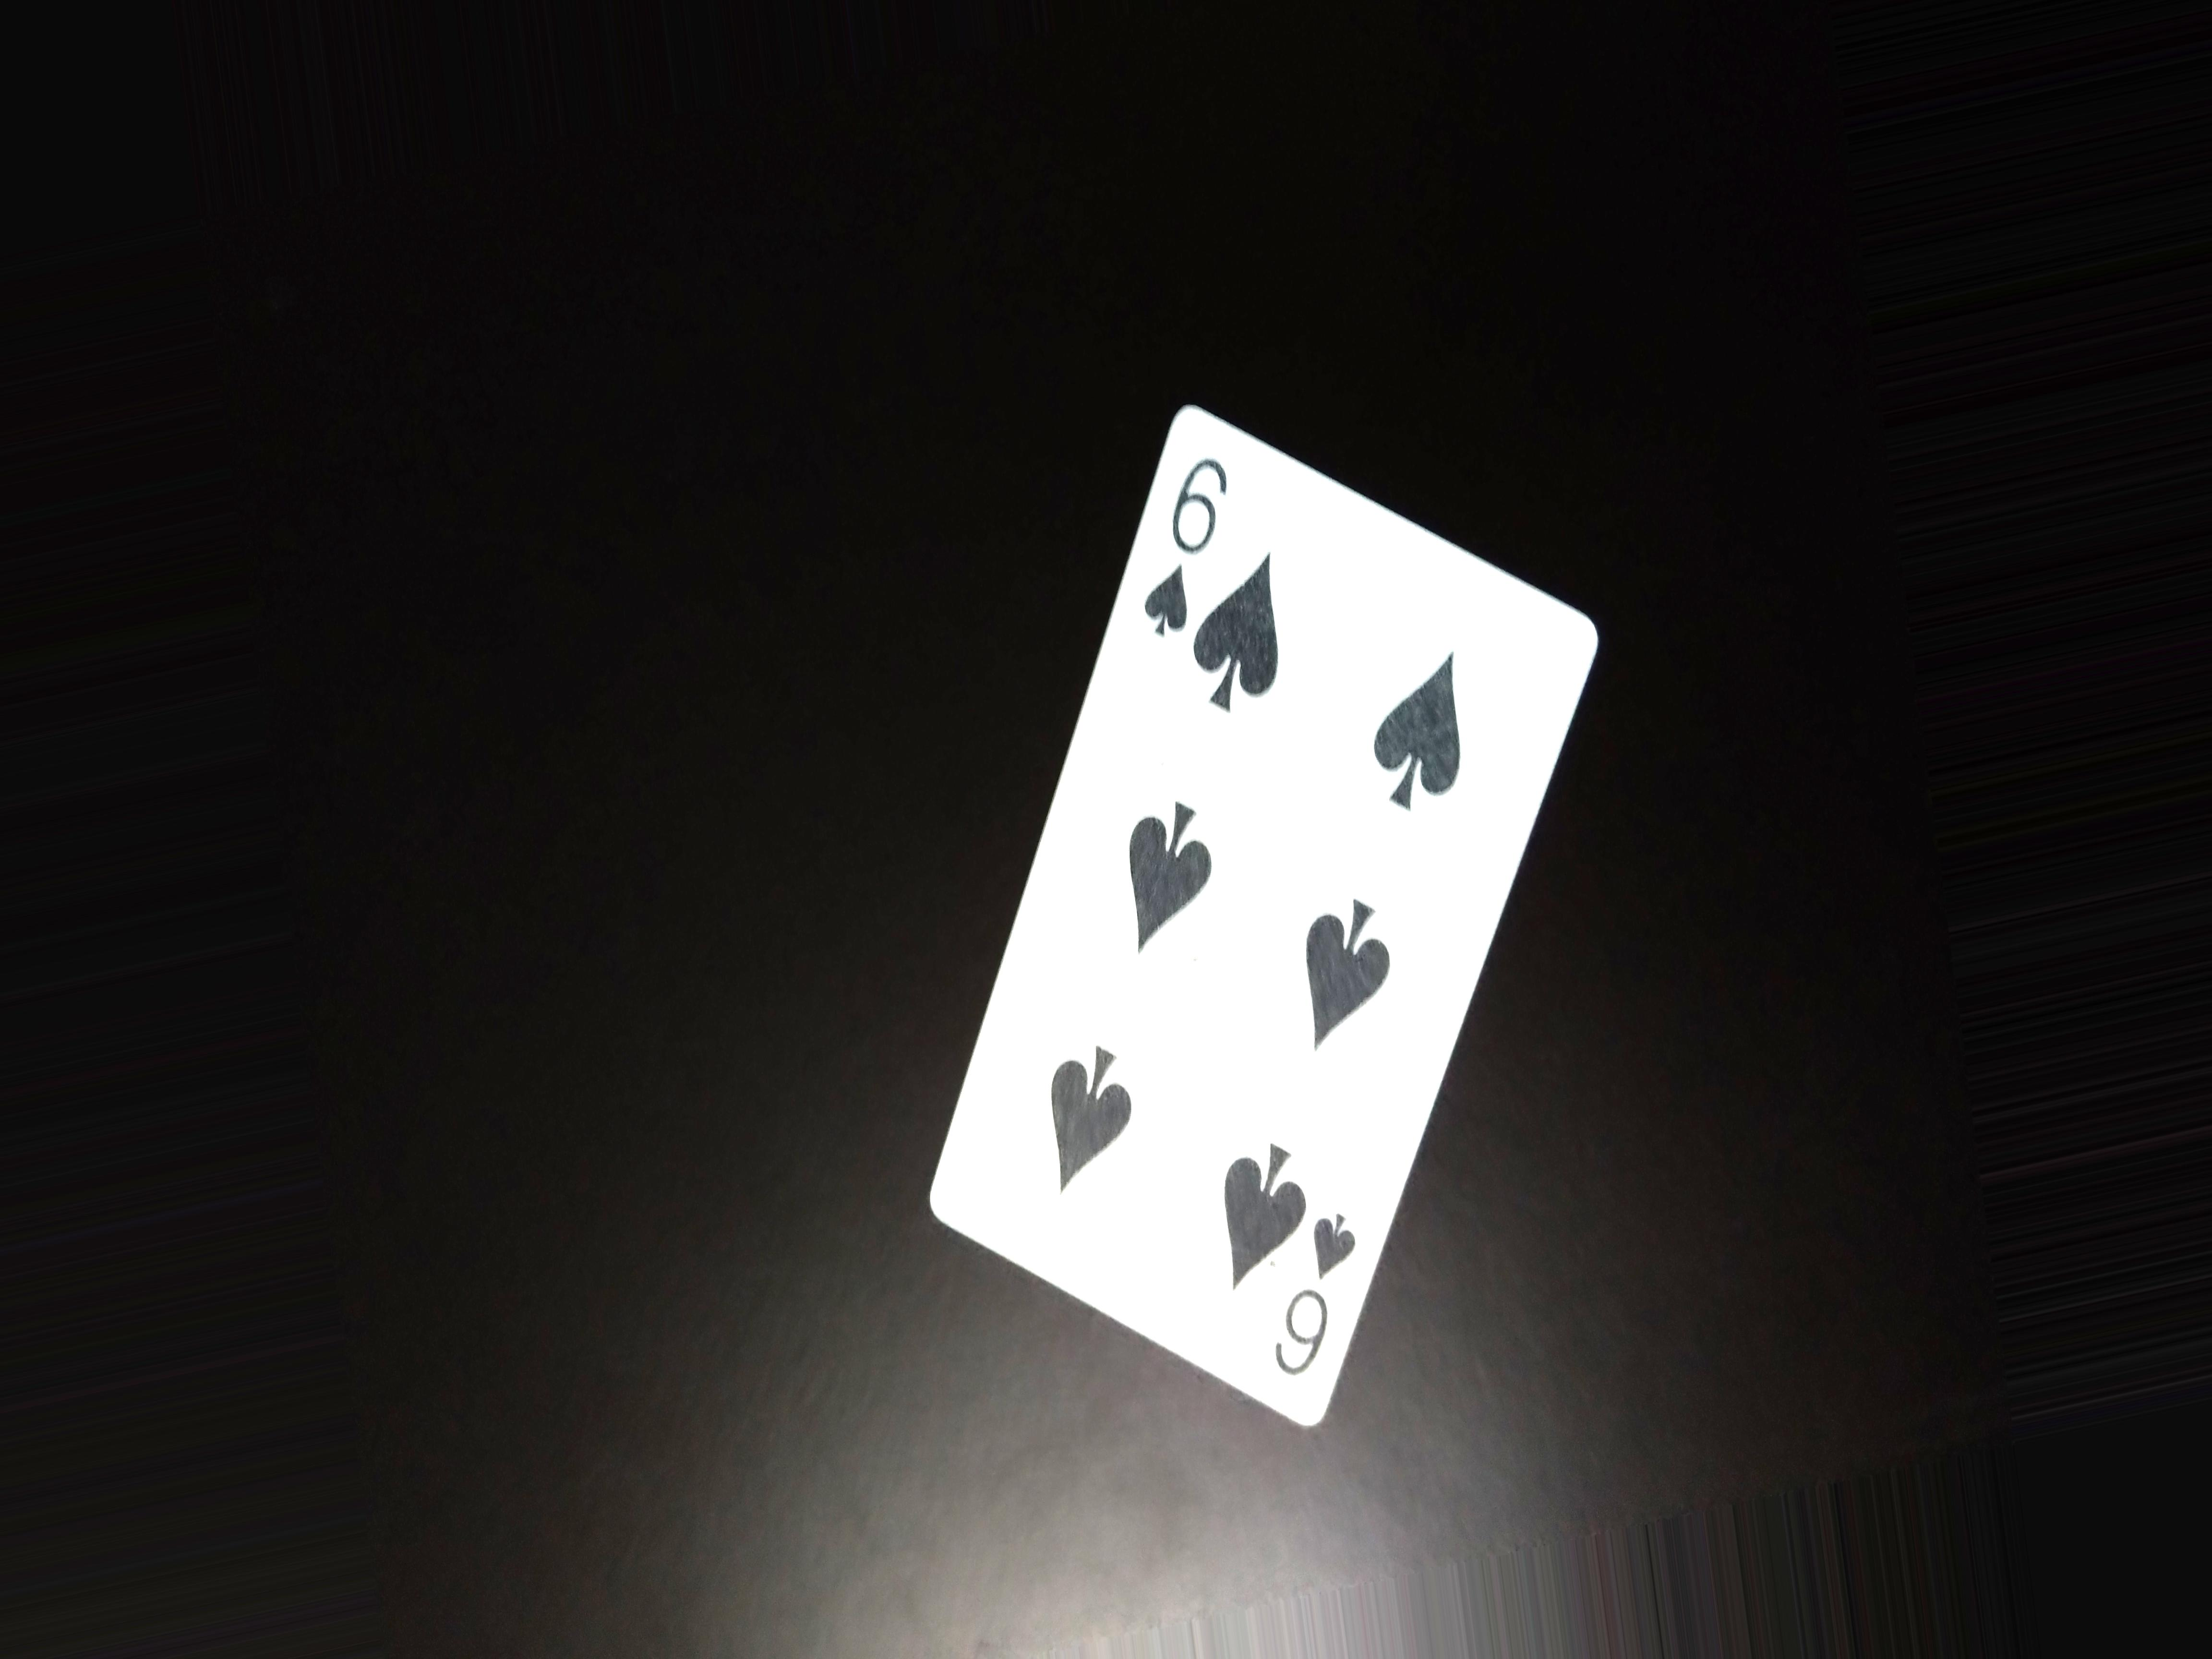6S: (1144, 420, 1226, 657)
